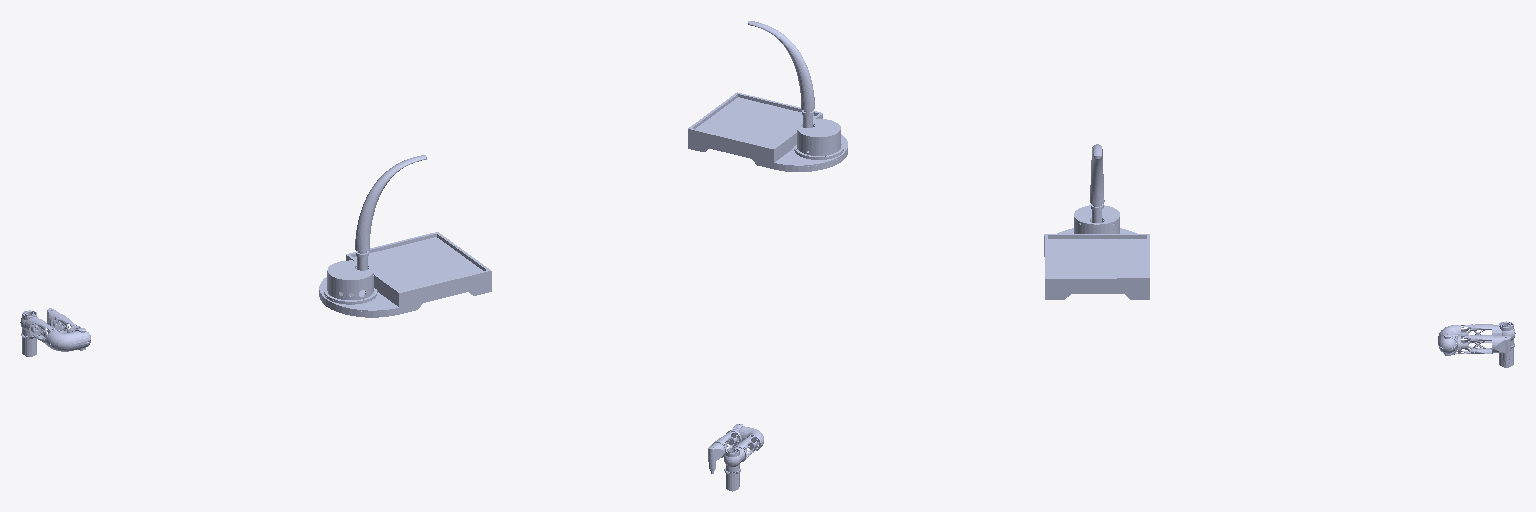
URDF robot description (scara):
<?xml version="1.0" encoding="utf-8"?>
<!-- This URDF was automatically created by SolidWorks to URDF Exporter! Originally created by [author] ([email redacted]) 
     Commit Version: 1.6.0-4-g7f85cfe  Build Version: 1.6.7995.38578
     For more information, please see http://wiki.ros.org/sw_urdf_exporter -->
<robot
  name="scara">
  <link
    name="base_link">
    <inertial>
      <origin
        xyz="-0.029504 -0.0075291 -0.00013315"
        rpy="0 0 0" />
      <mass
        value="0.17735" />
      <inertia
        ixx="0.0028827"
        ixy="-2.5805E-06"
        ixz="-8.0172E-06"
        iyy="0.0038799"
        iyz="1.0833E-08"
        izz="0.0010089" />
    </inertial>
    <visual>
      <origin
        xyz="0 0 0"
        rpy="0 0 0" />
      <geometry>
        <mesh
          filename="package://scara/meshes/base_link.STL" />
      </geometry>
      <material
        name="">
        <color
          rgba="0.79216 0.81961 0.93333 1" />
      </material>
    </visual>
    <collision>
      <origin
        xyz="0 0 0"
        rpy="0 0 0" />
      <geometry>
        <mesh
          filename="package://scara/meshes/base_link.STL" />
      </geometry>
    </collision>
  </link>
  <link
    name="link_1">
    <inertial>
      <origin
        xyz="-0.022525 -0.0033417 0.010539"
        rpy="0 0 0" />
      <mass
        value="0.1852" />
      <inertia
        ixx="0.0032284"
        ixy="-0.00038271"
        ixz="-0.00061521"
        iyy="0.0041764"
        iyz="0.00018292"
        izz="0.0022412" />
    </inertial>
    <visual>
      <origin
        xyz="0 0 0"
        rpy="0 0 0" />
      <geometry>
        <mesh
          filename="package://scara/meshes/link_1.STL" />
      </geometry>
      <material
        name="">
        <color
          rgba="0.79216 0.81961 0.93333 1" />
      </material>
    </visual>
    <collision>
      <origin
        xyz="0 0 0"
        rpy="0 0 0" />
      <geometry>
        <mesh
          filename="package://scara/meshes/link_1.STL" />
      </geometry>
    </collision>
  </link>
  <joint
    name="shoulder"
    type="revolute">
    <origin
      xyz="0 0 0"
      rpy="1.5708 0 -0.44269" />
    <parent
      link="base_link" />
    <child
      link="link_1" />
    <axis
      xyz="0 1 0" />
    <limit
      lower="0"
      upper="0"
      effort="0"
      velocity="0" />
  </joint>
  <link
    name="link_2">
    <inertial>
      <origin
        xyz="0.0063696 -0.055756 -0.21658"
        rpy="0 0 0" />
      <mass
        value="0.1852" />
      <inertia
        ixx="0.003131"
        ixy="-0.00037655"
        ixz="0.00069665"
        iyy="0.0041594"
        iyz="-0.00022123"
        izz="0.0023556" />
    </inertial>
    <visual>
      <origin
        xyz="0 0 0"
        rpy="0 0 0" />
      <geometry>
        <mesh
          filename="package://scara/meshes/link_2.STL" />
      </geometry>
      <material
        name="">
        <color
          rgba="0.79216 0.81961 0.93333 1" />
      </material>
    </visual>
    <collision>
      <origin
        xyz="0 0 0"
        rpy="0 0 0" />
      <geometry>
        <mesh
          filename="package://scara/meshes/link_2.STL" />
      </geometry>
    </collision>
  </link>
  <joint
    name="elbow"
    type="revolute">
    <origin
      xyz="0.15462 0.05041 0.13618"
      rpy="-0.015862 0.97874 -0.030813" />
    <parent
      link="link_1" />
    <child
      link="link_2" />
    <axis
      xyz="0 1 0" />
    <limit
      lower="0"
      upper="0"
      effort="0"
      velocity="0" />
  </joint>
  <link
    name="gripper">
    <inertial>
      <origin
        xyz="0 0 -0.040849"
        rpy="0 0 0" />
      <mass
        value="0.007854" />
      <inertia
        ixx="6.5941E-06"
        ixy="2.1176E-22"
        ixz="2.2739E-22"
        iyy="6.5941E-06"
        iyz="-1.7078E-21"
        izz="9.8175E-08" />
    </inertial>
    <visual>
      <origin
        xyz="0 0 0"
        rpy="0 0 0" />
      <geometry>
        <mesh
          filename="package://scara/meshes/gripper.STL" />
      </geometry>
      <material
        name="">
        <color
          rgba="0.79216 0.81961 0.93333 1" />
      </material>
    </visual>
    <collision>
      <origin
        xyz="0 0 0"
        rpy="0 0 0" />
      <geometry>
        <mesh
          filename="package://scara/meshes/gripper.STL" />
      </geometry>
    </collision>
  </link>
  <joint
    name="gripper_linear"
    type="prismatic">
    <origin
      xyz="0.094697 0 -0.16386"
      rpy="1.5708 1.5021 0" />
    <parent
      link="link_2" />
    <child
      link="gripper" />
    <axis
      xyz="0 0 1" />
    <limit
      lower="0"
      upper="0"
      effort="0"
      velocity="0" />
  </joint>
</robot>

--- Render facts (derived) ---
3 views of the same robot in one strip: view 1: azimuth 30°, elevation 25°; view 2: azimuth 150°, elevation 25°; view 3: azimuth 270°, elevation 25° (orthographic).
Model scara with 4 links and 3 joints (2 revolute, 1 prismatic), rooted at base_link, posed every joint at zero.
Visible links, largest first — view 1: base_link, link_1; view 2: base_link, link_1, link_2; view 3: base_link, link_1, link_2.
Boxes of the visible links, box(x1,y1,x2,y2) form: base_link: box(319, 155, 491, 317); link_1: box(20, 310, 90, 356); base_link: box(688, 21, 847, 171); link_1: box(724, 426, 763, 491); link_2: box(708, 424, 742, 470); base_link: box(1044, 144, 1149, 299); link_1: box(1438, 321, 1515, 367); link_2: box(1443, 333, 1510, 361).
Size in the robot's own frame: 0.8711 by 1.52 by 1.07 metres.
4 mesh visuals loaded from 4 distinct referenced files (4 binary STL).